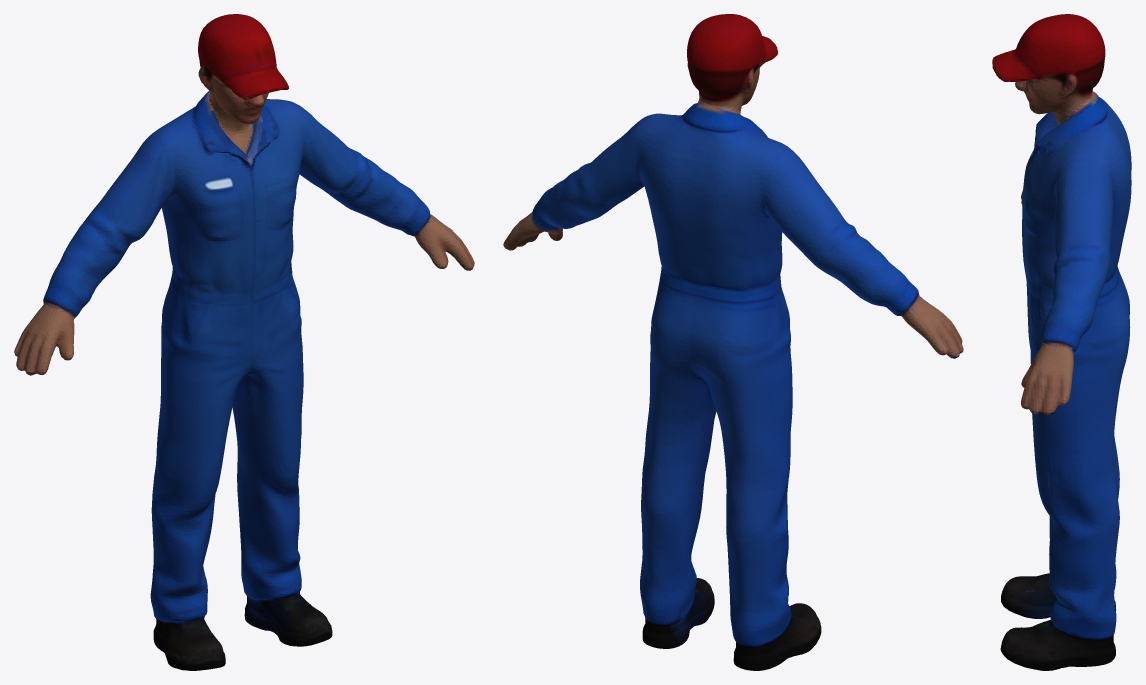
The model's file is bastam.glb.
The picture shows the model from 3 angles, left to right: view 1: azimuth 30°, elevation 25°; view 2: azimuth 150°, elevation 25°; view 3: azimuth 270°, elevation 25°; orthographic projection.
Parts seen in each view (by area): view 1: tmpje7g29pl.ply; view 2: tmpje7g29pl.ply; view 3: tmpje7g29pl.ply.
Part boxes in pixels (<box>): tmpje7g29pl.ply: <box>14,14,474,670</box>; tmpje7g29pl.ply: <box>503,14,963,670</box>; tmpje7g29pl.ply: <box>992,14,1131,670</box>.
Bounding box in the file's own units: 1.51 × 1.99 × 0.4068.
Materials: 1 (1 with a texture image).
